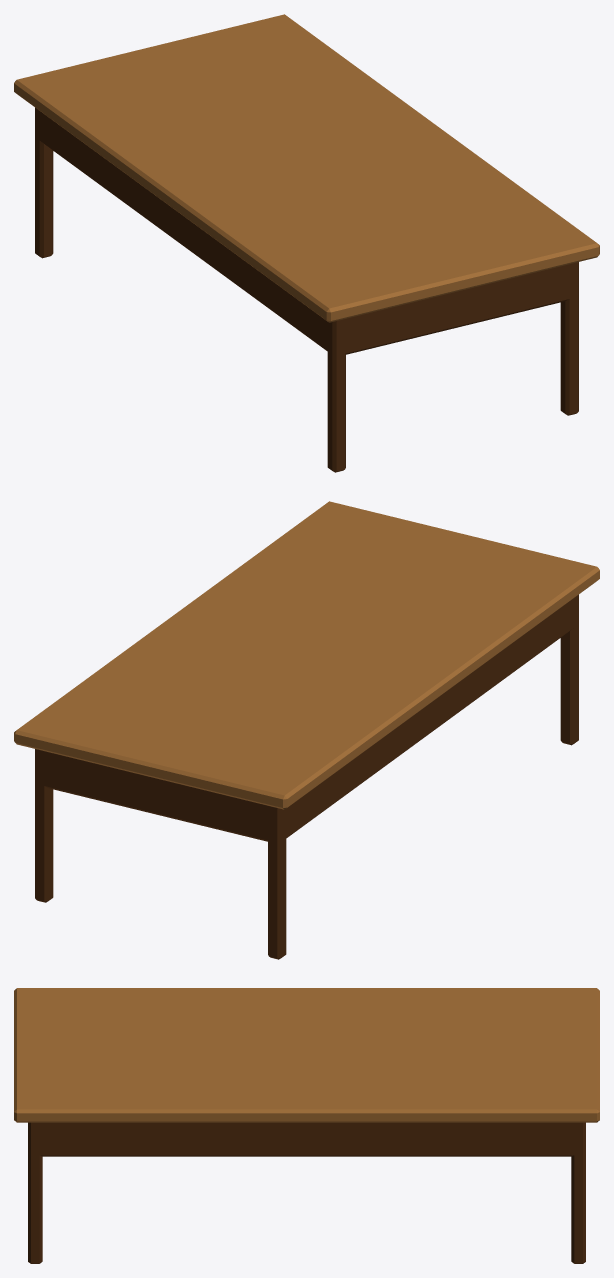
File: table base.fbx
The picture shows the model from 3 angles, top to bottom: view 1: azimuth 30°, elevation 25°; view 2: azimuth 150°, elevation 25°; view 3: azimuth 270°, elevation 25°; orthographic projection. The views are drawn at different scales.
Parts seen in each view (by area): view 1: Cube; view 2: Cube; view 3: Cube.
Part boxes in pixels (left/top/right/bottom): Cube: left=14, top=14, right=599, bottom=472; Cube: left=14, top=501, right=599, bottom=959; Cube: left=14, top=988, right=599, bottom=1263.
Bounding box in the file's own units: 200 × 121 × 400.
